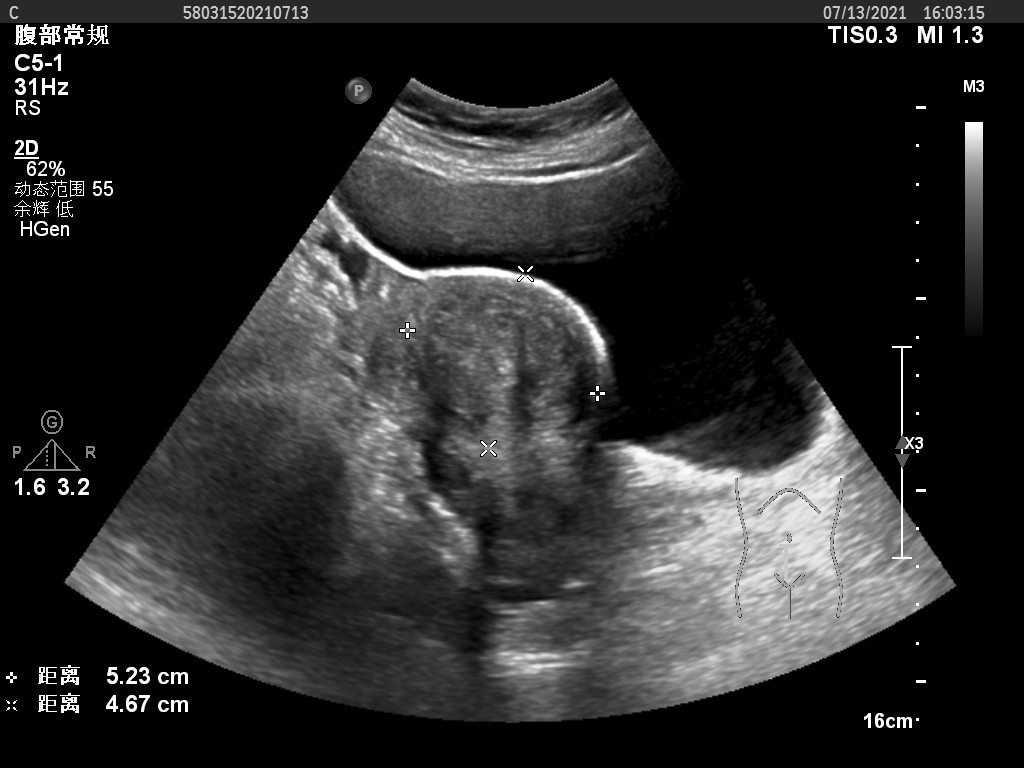肌瘤: (406, 272, 602, 449)
